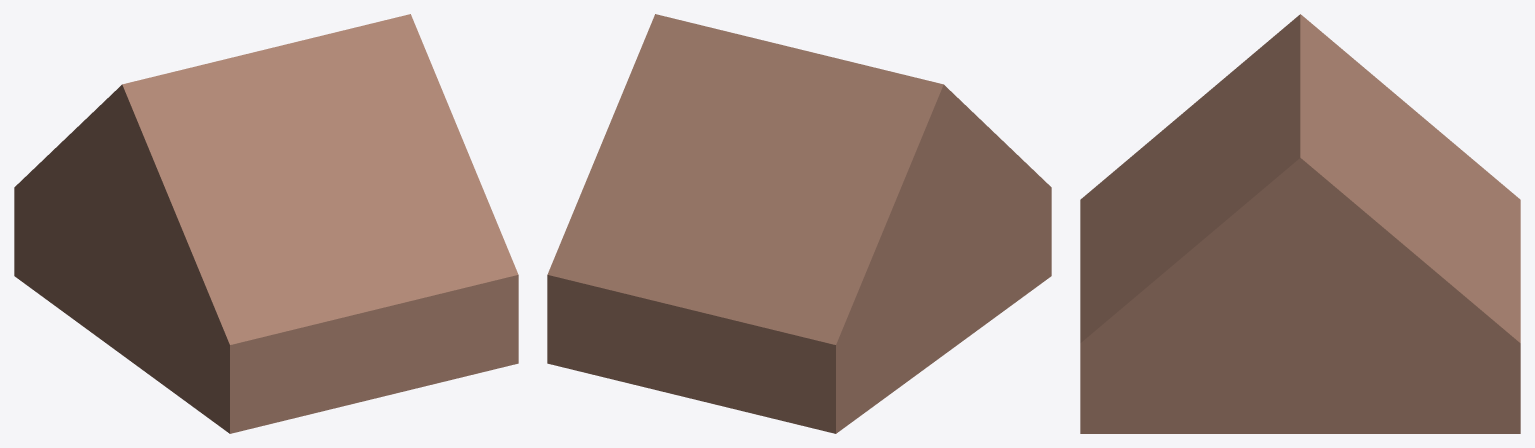
Rendered from ridge_cap_end.glb.
3 views of the same model, side by side, from view 1: azimuth 30°, elevation 25°; view 2: azimuth 150°, elevation 25°; view 3: azimuth 270°, elevation 25° (orthographic). The views are drawn at different scales.
Parts seen in each view (by area): view 1: ridge_cap_end_ridge; view 2: ridge_cap_end_ridge; view 3: ridge_cap_end_ridge.
Part boxes in pixels (x1,y1,x2,y2): ridge_cap_end_ridge: [14, 14, 518, 433]; ridge_cap_end_ridge: [547, 14, 1051, 433]; ridge_cap_end_ridge: [1080, 14, 1520, 433].
Size of the model in its own units: 0.34 by 0.3048 by 0.44.
